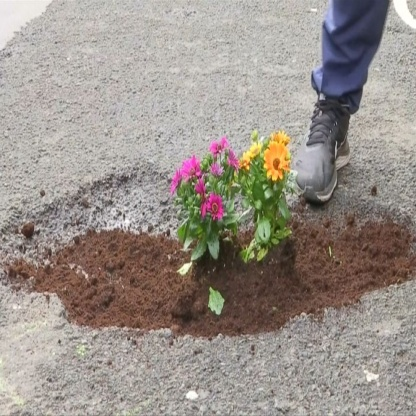pothole: (1, 156, 416, 332)
